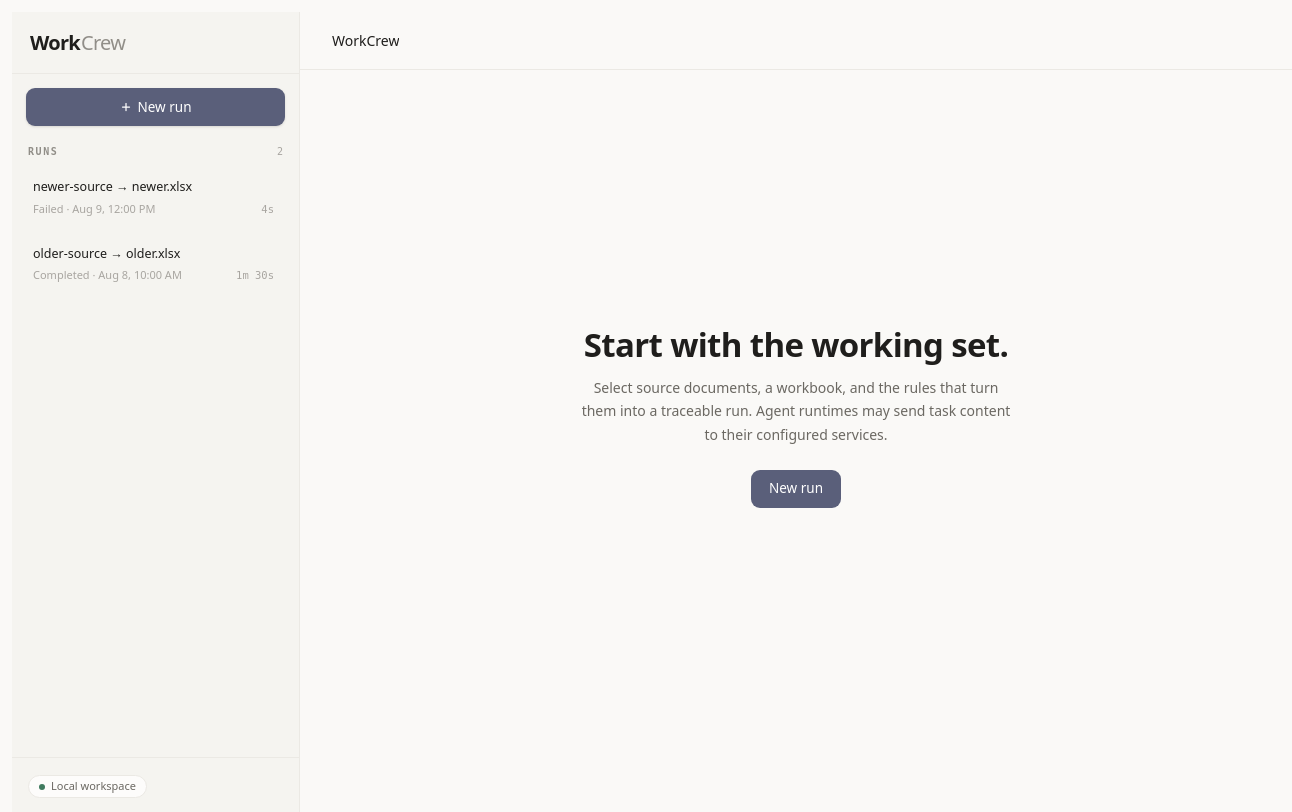
Test: run history › lists rich run cards and opens the selected historical run
Expected: the text "Failed · Aug 9, 12:00 PM" is shown, [33,201,155,217]
Expected: the text "Completed · Aug 8, 10:00 AM" is shown, [33,267,182,284]
Click the button with aria-label "Open run " at [154, 264], box [22,234,285,295]
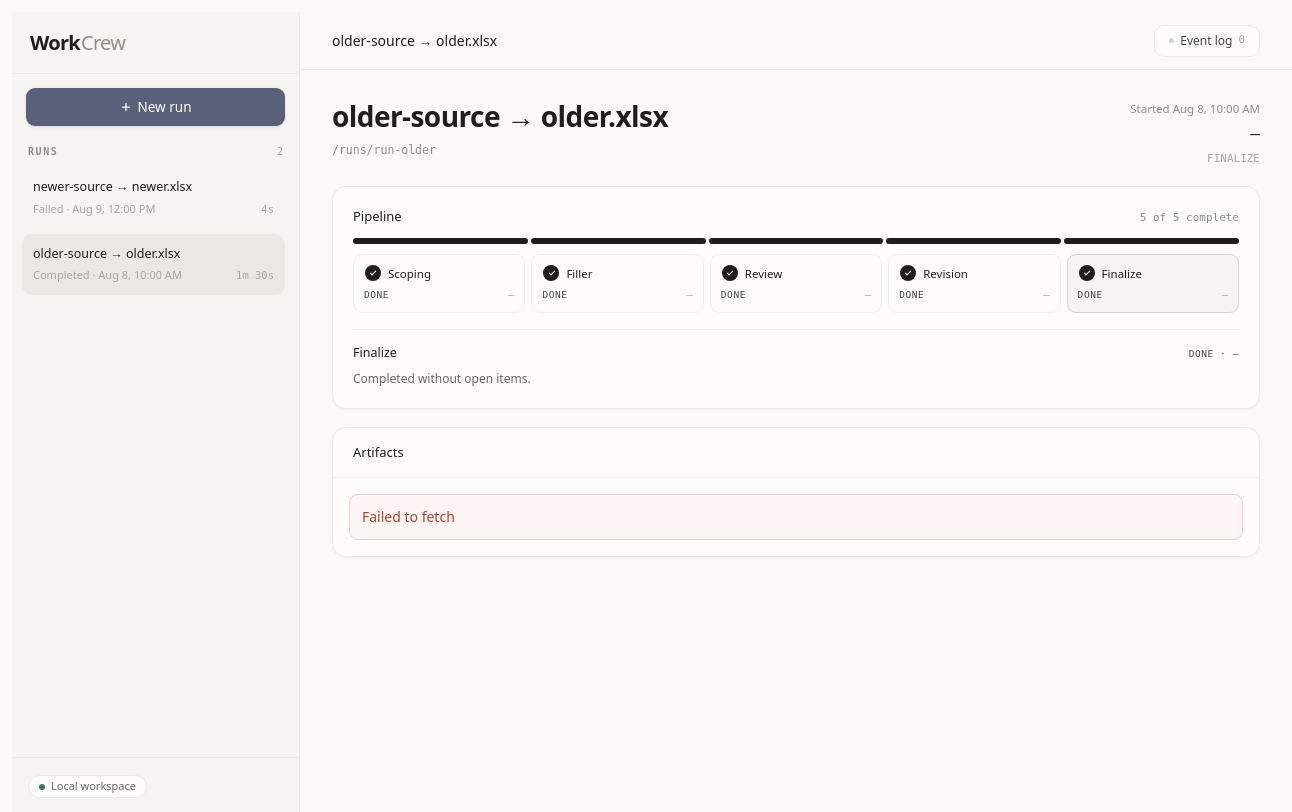
Expected: the heading "older-source → older.xlsx" is shown, [332,97,668,135]
Expected: the text "5 of 5 complete" is shown, [1140,210,1239,226]
Click the button "New run" at [156, 107], box [26,88,285,126]
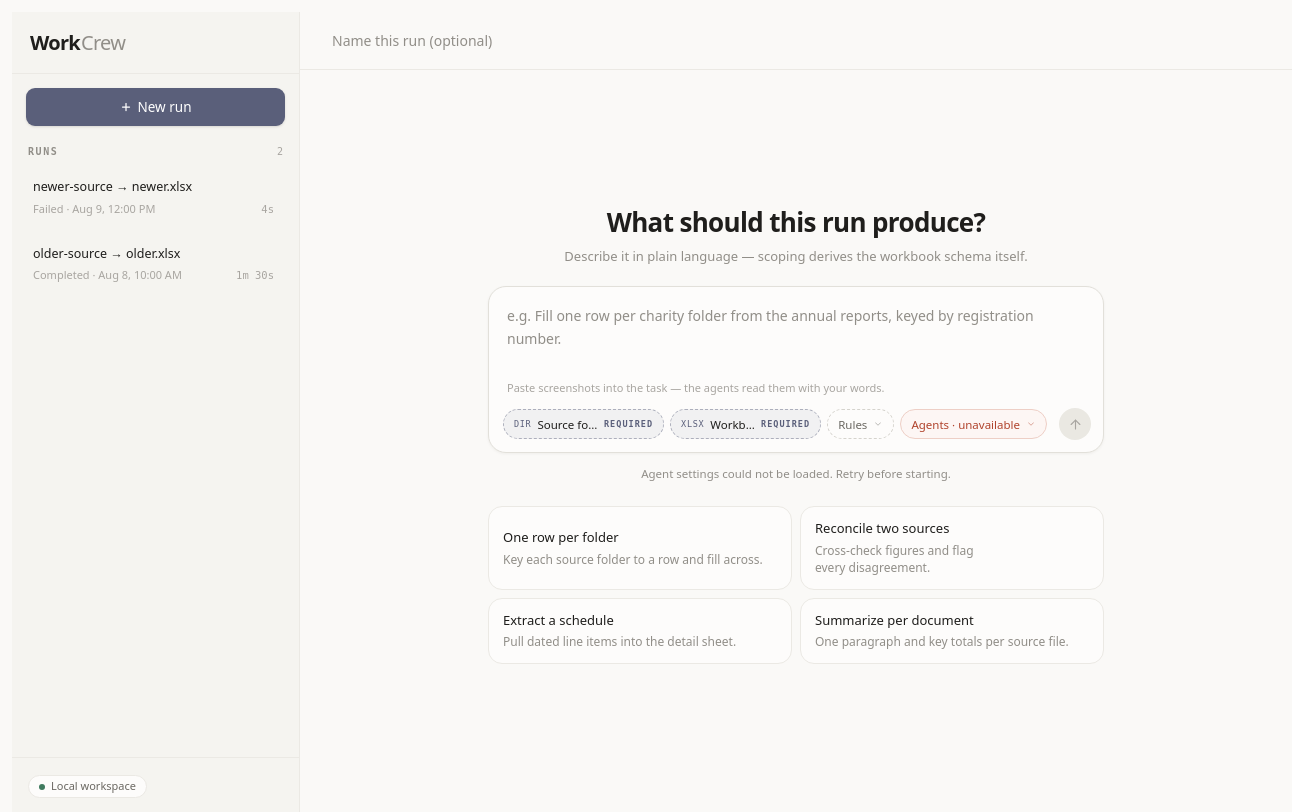
Expected: the heading "What should this run produce?" is shown, [607,204,985,240]
